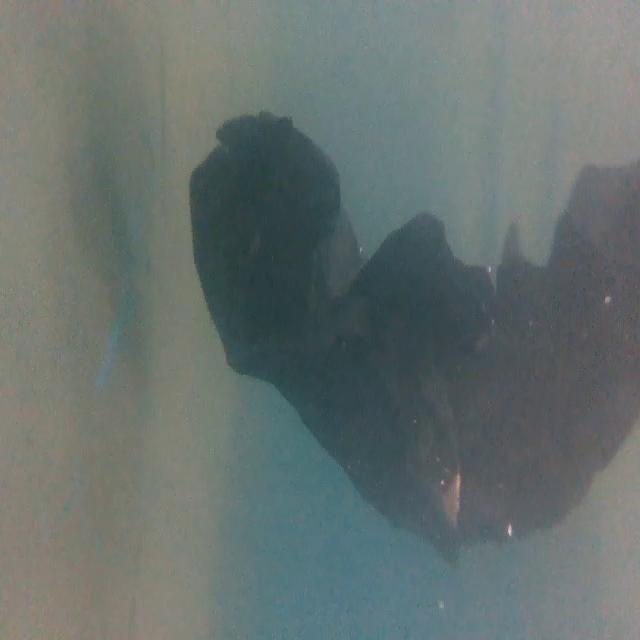plastic bags: (186, 107, 640, 573)
